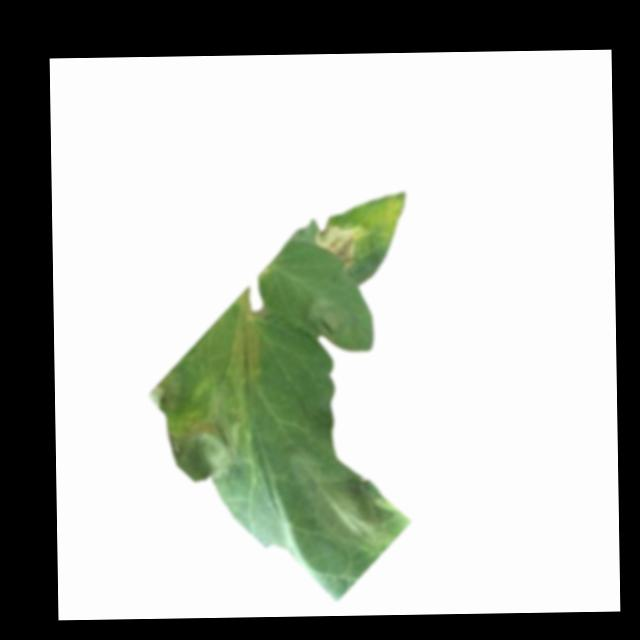Late_blight: (308, 476, 399, 554), (166, 417, 244, 487), (312, 220, 357, 274), (302, 297, 349, 342), (148, 368, 187, 414)
